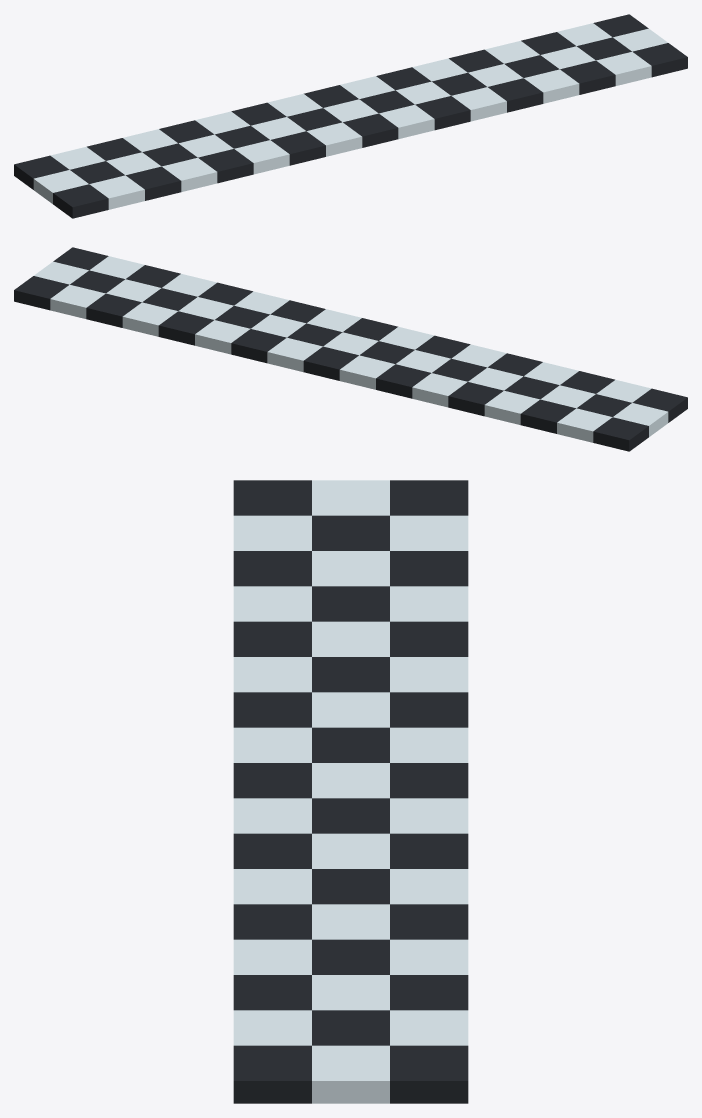
File: Start_segment.001.fbx
The picture shows the model from 3 angles, top to bottom: view 1: azimuth 30°, elevation 25°; view 2: azimuth 150°, elevation 25°; view 3: azimuth 270°, elevation 25°; orthographic projection. The views are drawn at different scales.
Parts seen in each view (by area): view 1: Start_segment.001; view 2: Start_segment.001; view 3: Start_segment.001.
Part boxes in pixels (box(x1,y1,x2,y2)): Start_segment.001: box(14, 14, 687, 218); Start_segment.001: box(14, 247, 687, 451); Start_segment.001: box(233, 480, 468, 1103).
Size of the model in its own units: 2819 by 50.13 by 465.
